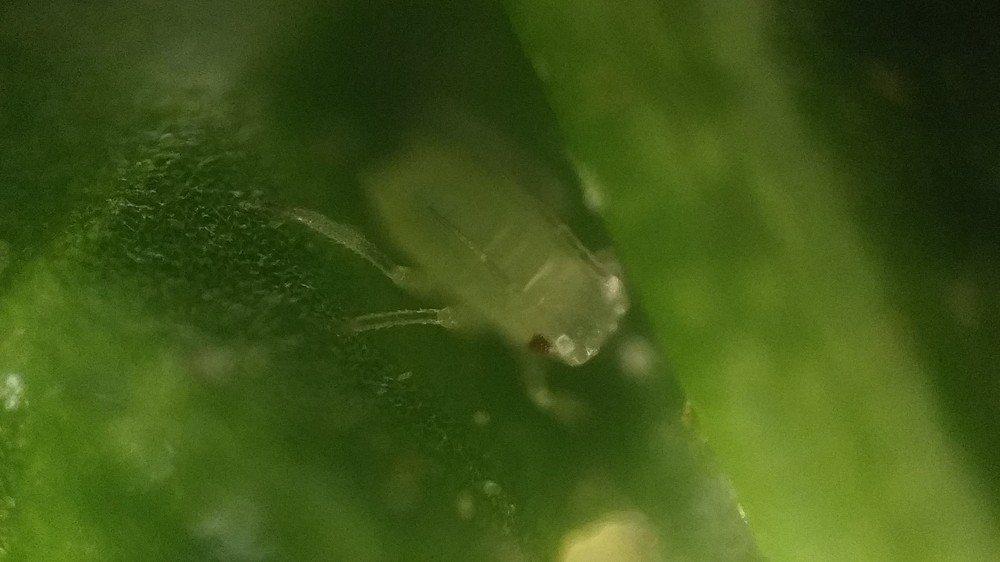Pulgon: (283, 91, 685, 439)
